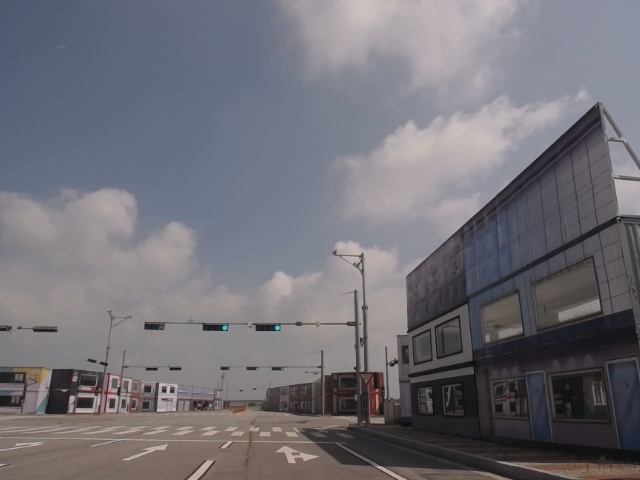straight_green_4: (255, 323, 283, 332), (203, 324, 229, 331)
